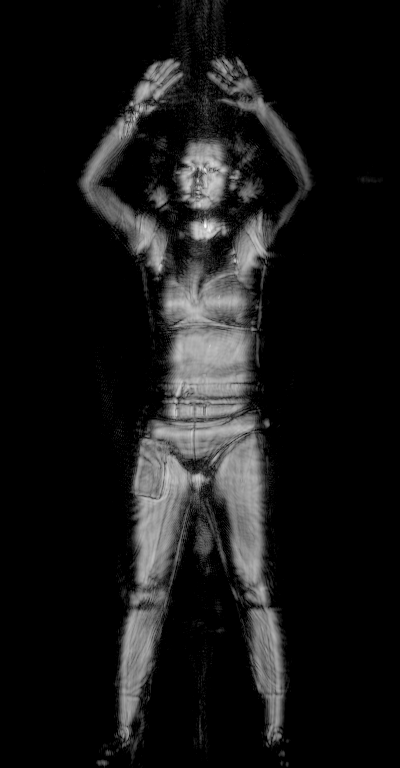head: (168, 132, 243, 221)
others: (129, 434, 174, 501), (121, 97, 148, 142)
person: (77, 52, 316, 768)
